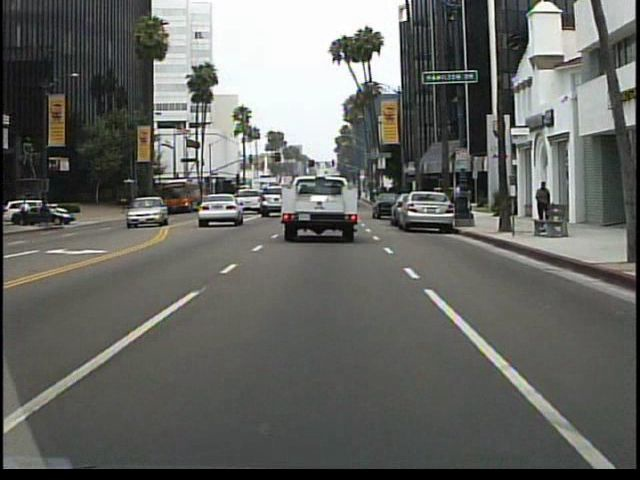person: (533, 179, 554, 228), (119, 191, 131, 217)
